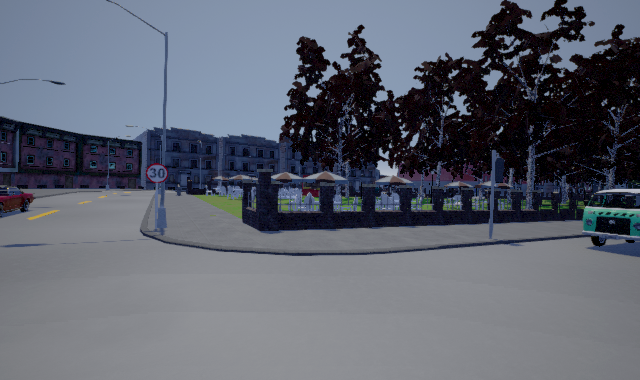traffic_sign: (146, 163, 168, 183)
vehicle: (582, 189, 640, 247), (1, 185, 34, 218)
